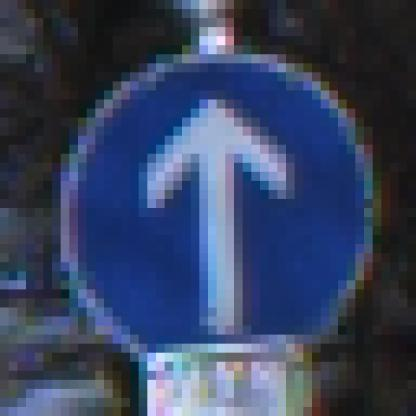AheadOnly: (53, 46, 374, 372)
